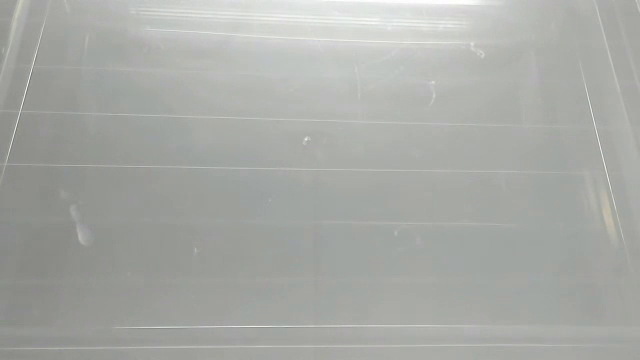alpha: (58, 183, 103, 249)
